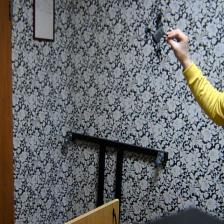drone: (132, 6, 184, 66)
